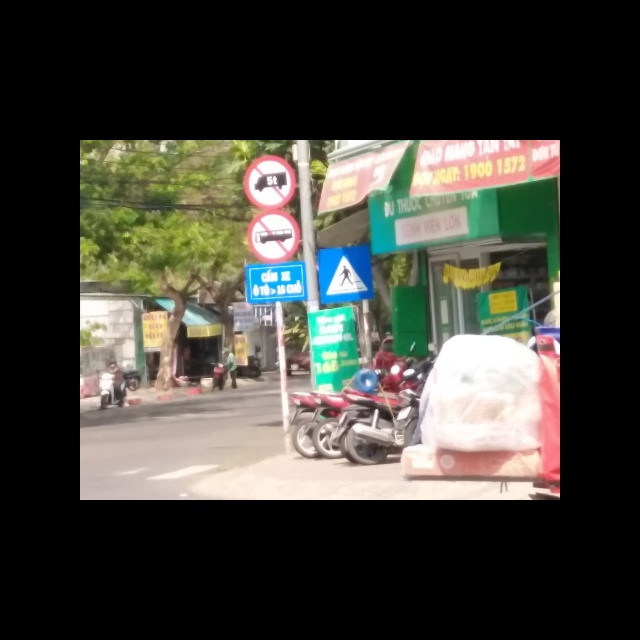Cấm xe tải: (243, 155, 298, 209)
Cấm xe xe khách: (246, 209, 299, 262)
Đường dành cho người đi bộ: (315, 246, 379, 306)
